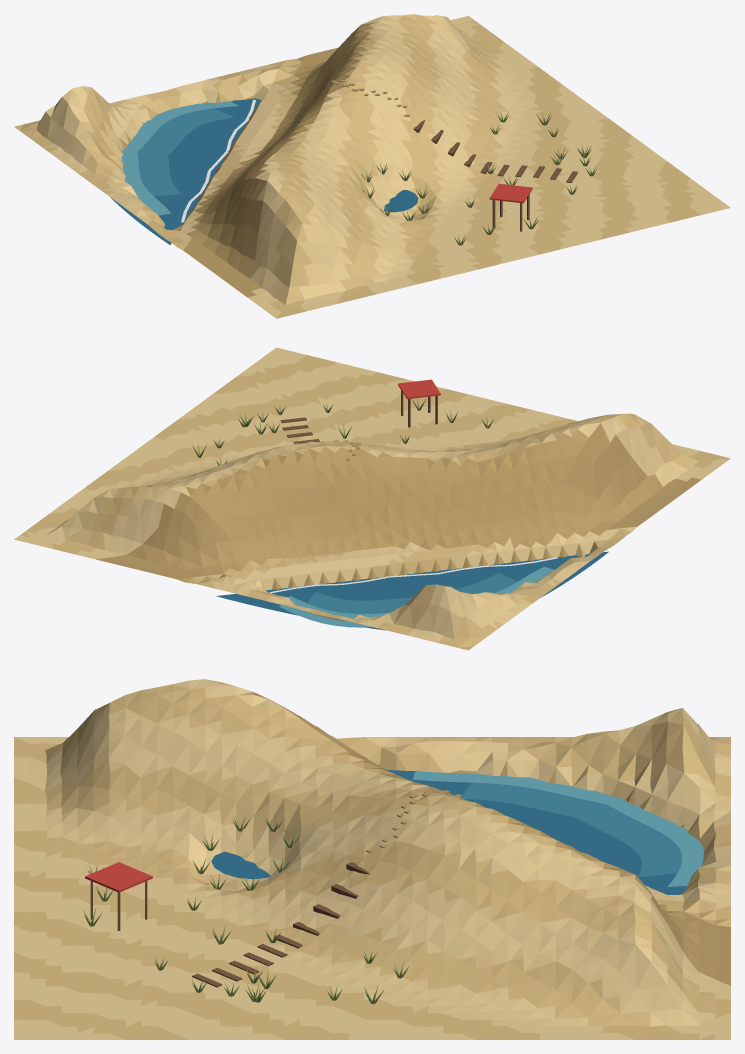
The model's file is tottori-dunes.glb.
The picture shows the model from 3 angles, top to bottom: view 1: azimuth 30°, elevation 25°; view 2: azimuth 150°, elevation 25°; view 3: azimuth 270°, elevation 25°; orthographic projection. The views are drawn at different scales.
Parts seen in each view (by area): view 1: tottori_sand, tottori_sand2, tottori_sanddk, tottori_sea, tottori_seamid, tottori_shallow, tottori_grass, tottori_wood, tottori_red, tottori_foam; view 2: tottori_sanddk, tottori_sand, tottori_sand2, tottori_sea, tottori_seamid, tottori_shallow, tottori_grass, tottori_wood, tottori_red, tottori_foam; view 3: tottori_sand, tottori_sand2, tottori_sea, tottori_sanddk, tottori_seamid, tottori_shallow, tottori_grass, tottori_wood, tottori_red.
Part boxes in pixels (x1,y1,x2,y2): tottori_sand: (44,15,730,318); tottori_sand2: (14,14,700,318); tottori_sanddk: (116,22,409,297); tottori_sea: (110,98,418,244); tottori_seamid: (137,108,234,196); tottori_shallow: (121,101,238,215); tottori_grass: (361,111,596,245); tottori_wood: (413,119,578,231); tottori_red: (489,183,532,203); tottori_foam: (181,99,255,222); tottori_sanddk: (96,423,701,620); tottori_sand: (14,347,730,642); tottori_sand2: (20,355,729,650); tottori_sea: (216,551,608,630); tottori_seamid: (307,572,517,613); tottori_shallow: (279,566,553,627); tottori_grass: (192,398,493,465); tottori_wood: (280,390,437,443); tottori_red: (398,379,440,399); tottori_foam: (270,557,557,593); tottori_sand: (14,679,730,1039); tottori_sand2: (14,684,730,1039); tottori_sea: (211,768,686,894); tottori_sanddk: (253,692,730,985); tottori_seamid: (460,783,682,877); tottori_shallow: (412,770,704,886); tottori_grass: (82,815,408,1004); tottori_wood: (90,862,369,987); tottori_red: (85,862,152,892).
Bounding box in the file's own units: 22.4 × 4.41 × 22.4.
